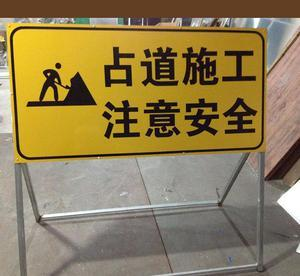sign: (8, 22, 269, 155)
